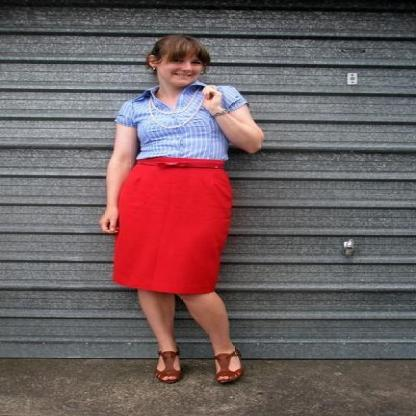shirt: (112, 75, 248, 159)
shoe: (158, 343, 247, 387)
skirt: (113, 156, 231, 295)
